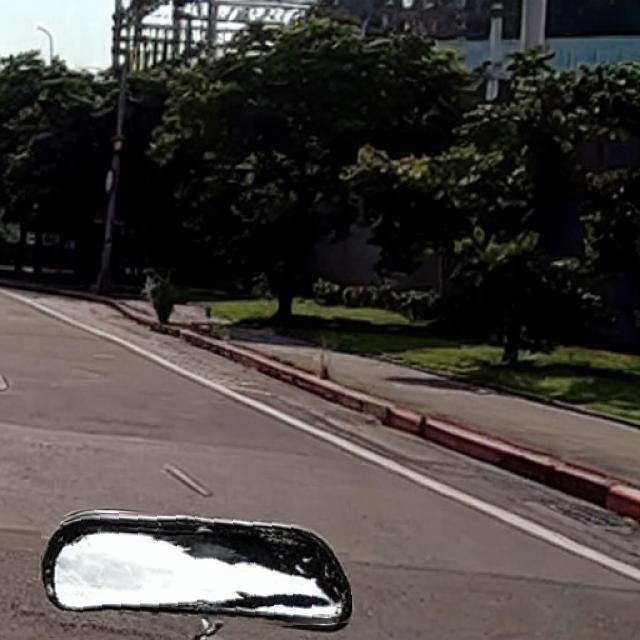puddle: (43, 506, 352, 636)
